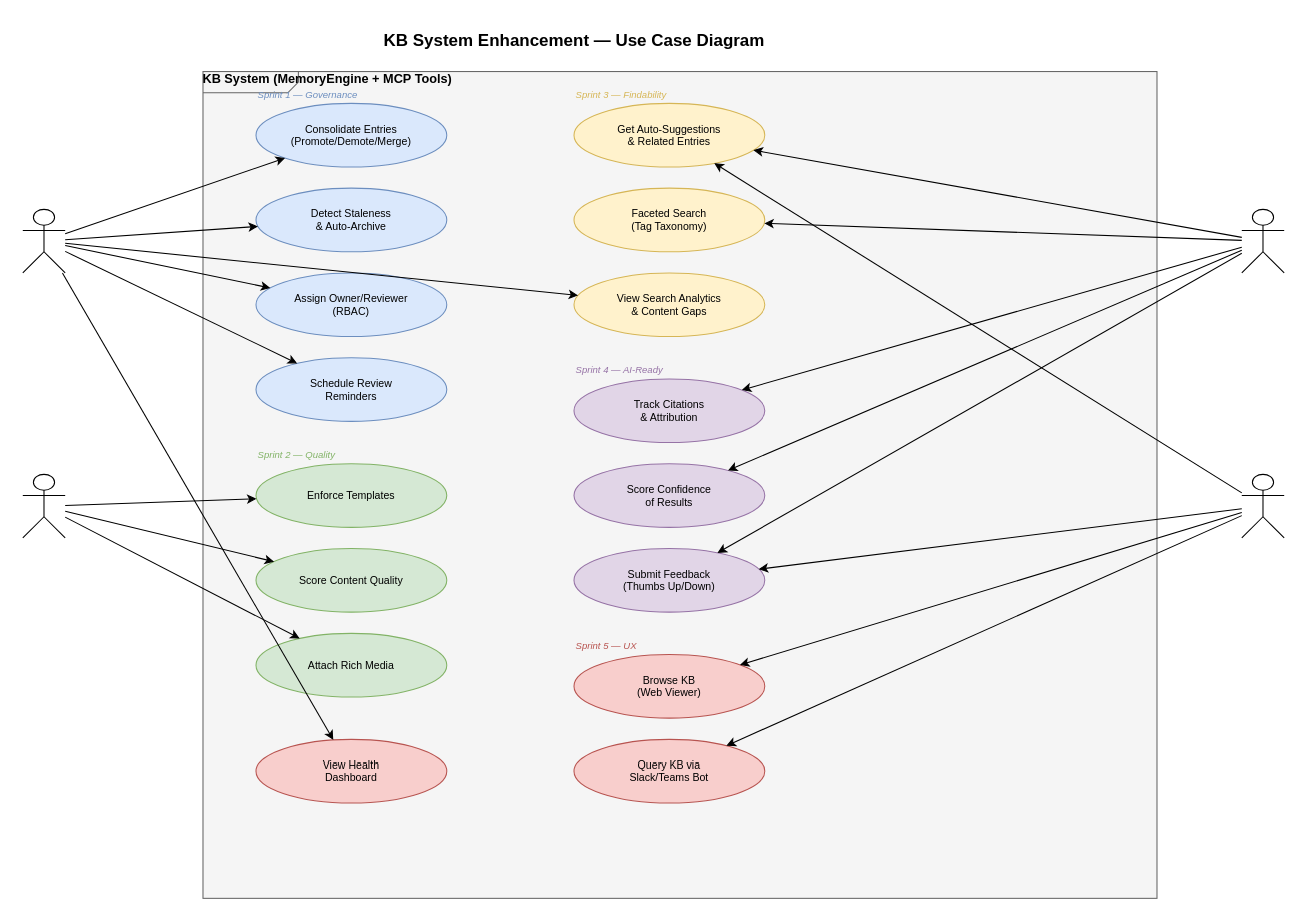
Image size: 1303x917. Some labels were removed from this diagram. Each missing label, with the box of its shape:
AI Agent: (1241, 208, 1284, 273)
Content Author: (22, 473, 65, 538)
Human User: (1241, 473, 1284, 538)
KB Admin: (22, 208, 65, 273)
